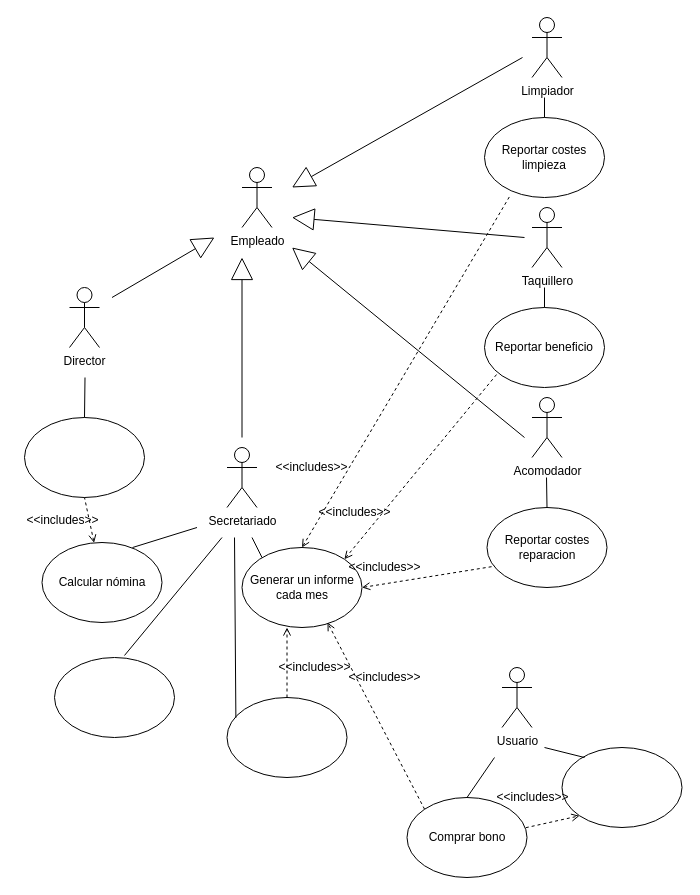
The diagram is 700 pixels wide and 895 high, and some of its shapes have lost their labels. Here are the shapes that lost their labels. From the top down, the box of each, then its label:
(24, 416, 144, 498): Revisar nómina
(54, 656, 174, 738): Conformar grupos de empleados cada semana
(226, 696, 347, 778): Reportar coste nomina
(561, 746, 682, 828): Registrar Usuario
